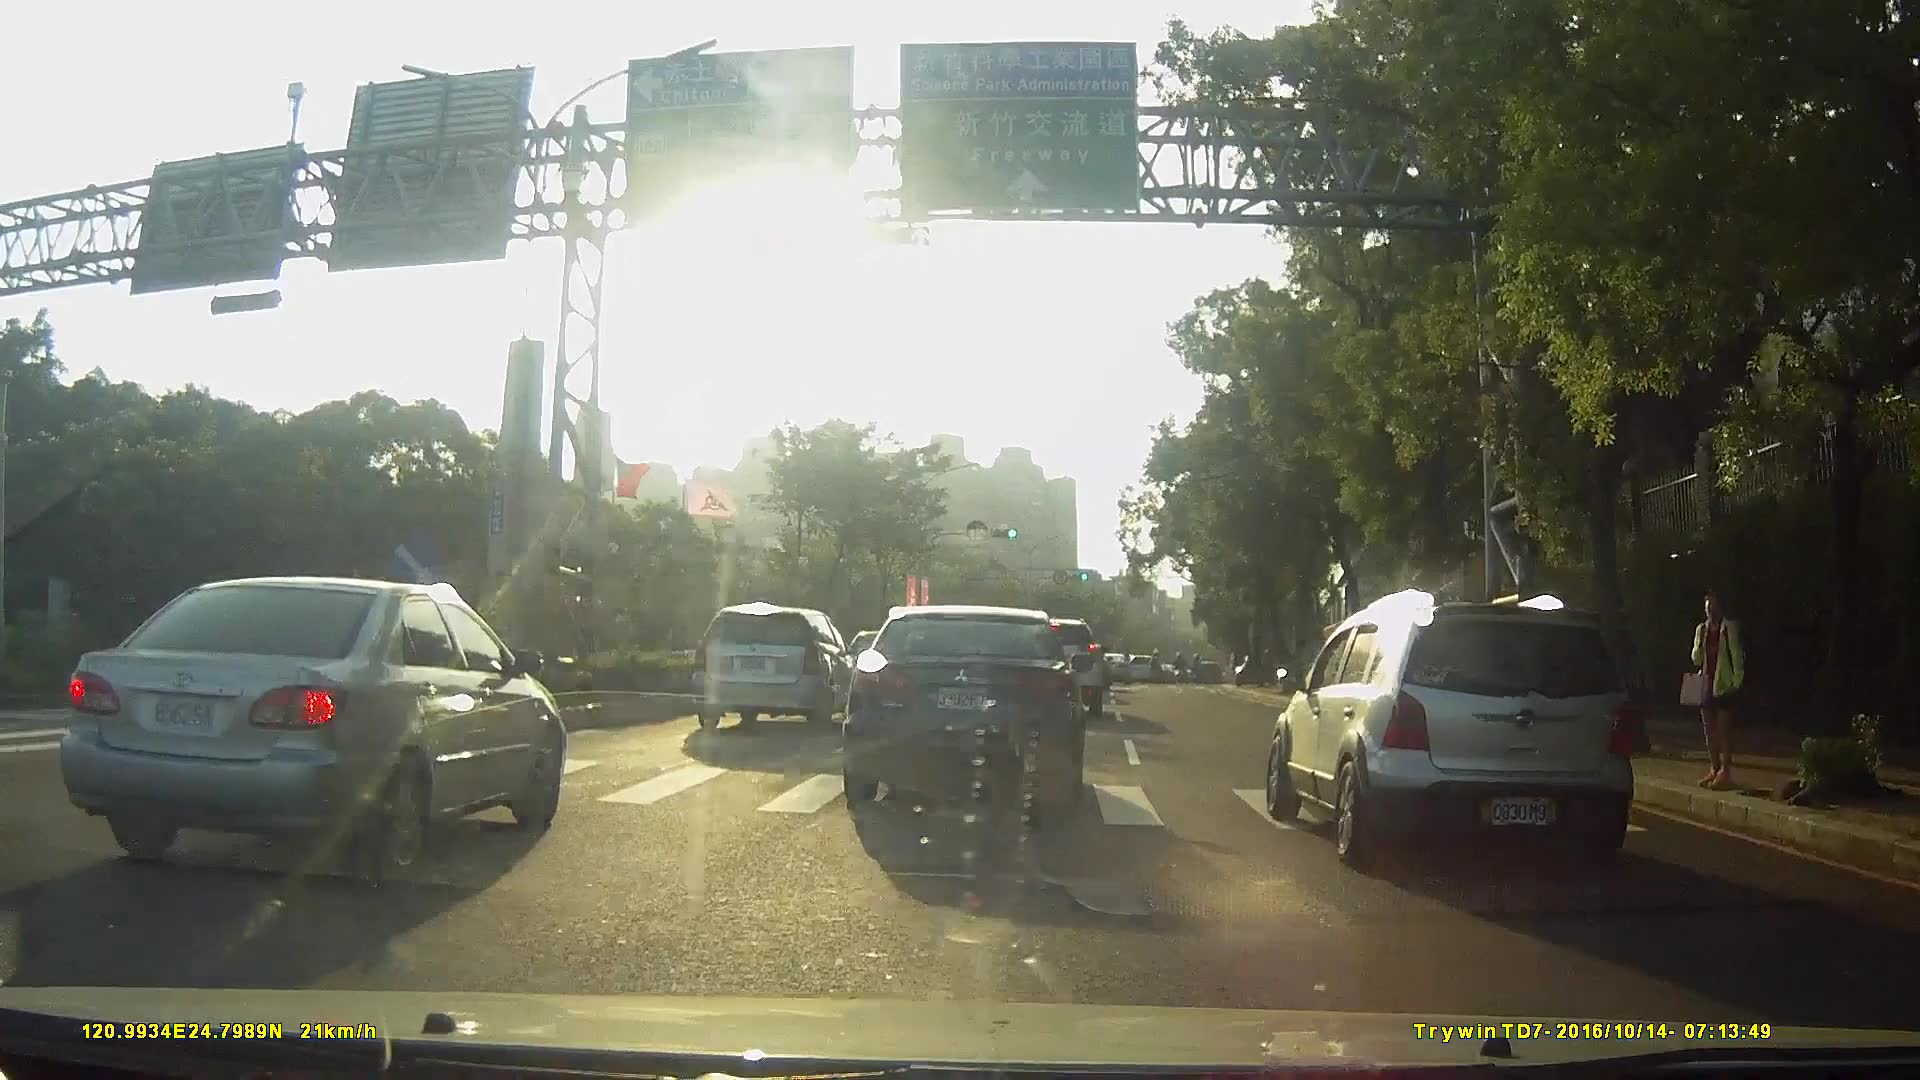pedestrian: (1677, 586, 1751, 793)
vehicle: (31, 566, 576, 883), (1249, 579, 1660, 875), (847, 593, 1108, 807), (680, 601, 857, 731), (1094, 647, 1128, 679), (1120, 647, 1154, 677)
